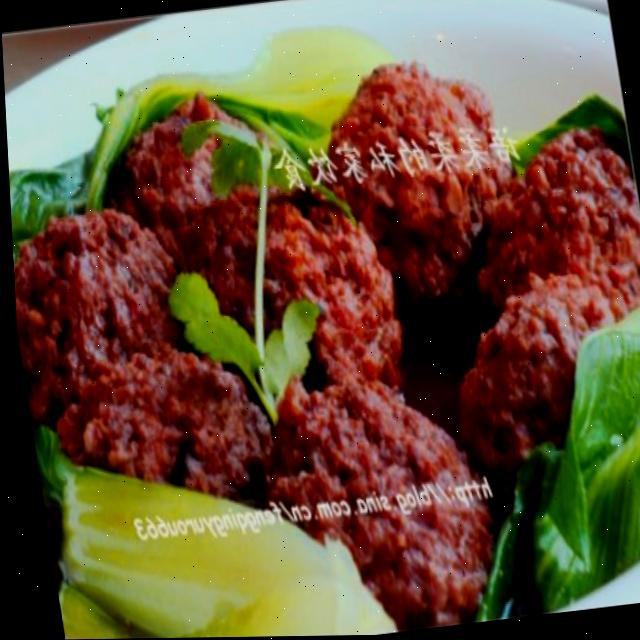猪肉菜式: (1, 7, 640, 640)
